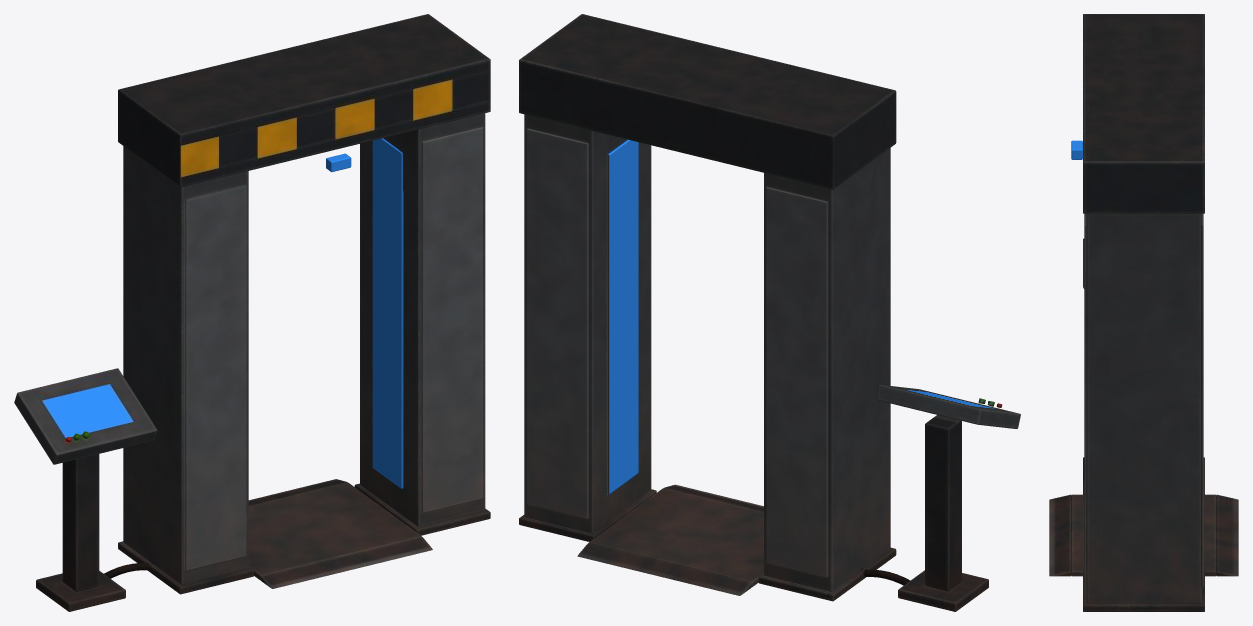
The model's file is scanner_arch.glb.
3 renders of one model, left to right at view 1: azimuth 30°, elevation 25°; view 2: azimuth 150°, elevation 25°; view 3: azimuth 270°, elevation 25°, orthographic. The views are drawn at different scales.
Parts seen in each view (by area): view 1: scanner_arch; view 2: scanner_arch; view 3: scanner_arch.
Boxes of the visible parts, <box> form: scanner_arch: <box>14,14,490,611</box>; scanner_arch: <box>519,14,1020,611</box>; scanner_arch: <box>1049,14,1238,611</box>.
Bounding box in the file's own units: 2.57 × 2.6 × 0.9926.
1 material, 1 textured.
